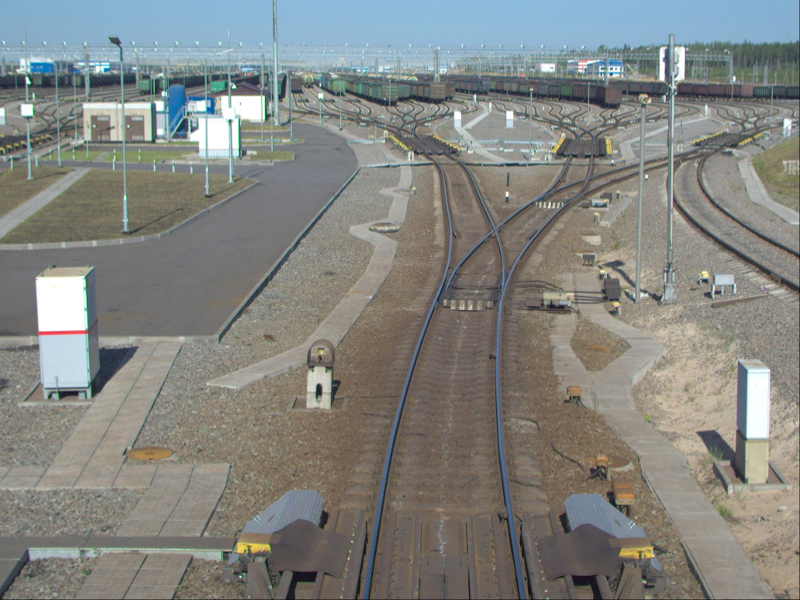left: (438, 222, 515, 314)
